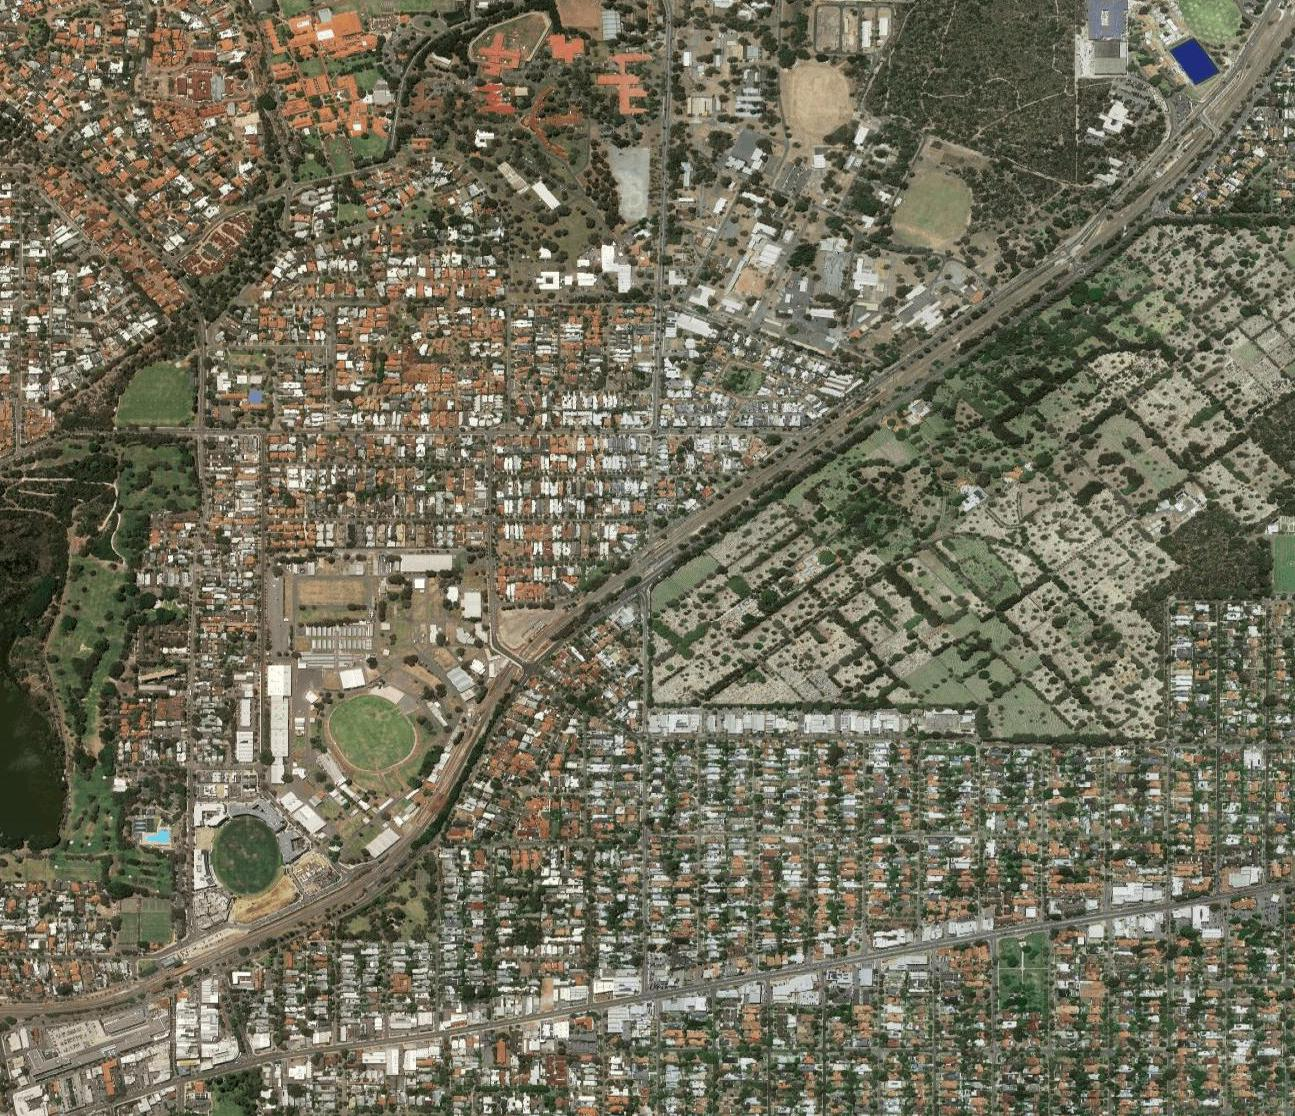industrial: (15, 989, 230, 1074)
train_station: (625, 527, 682, 582)
